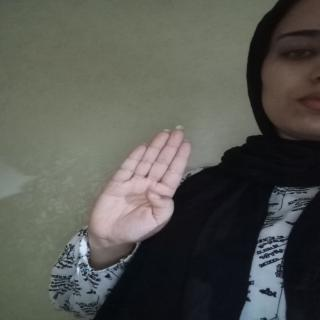KAAF: (86, 124, 200, 250)
